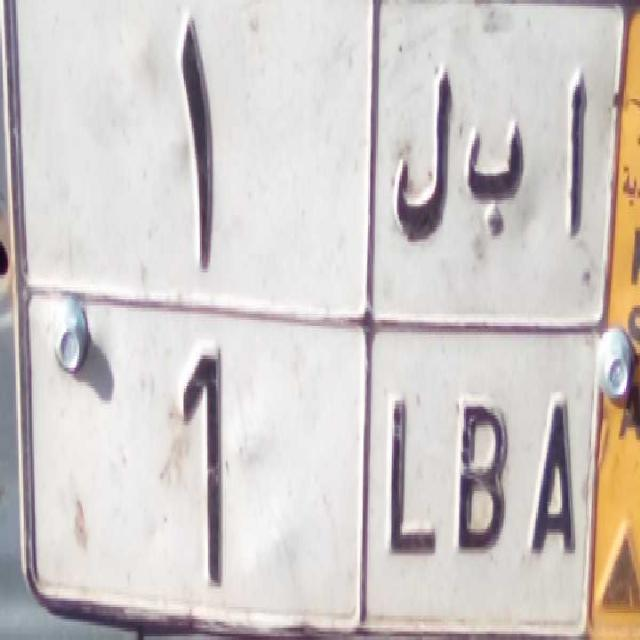license_plate: (20, 289, 598, 640)
